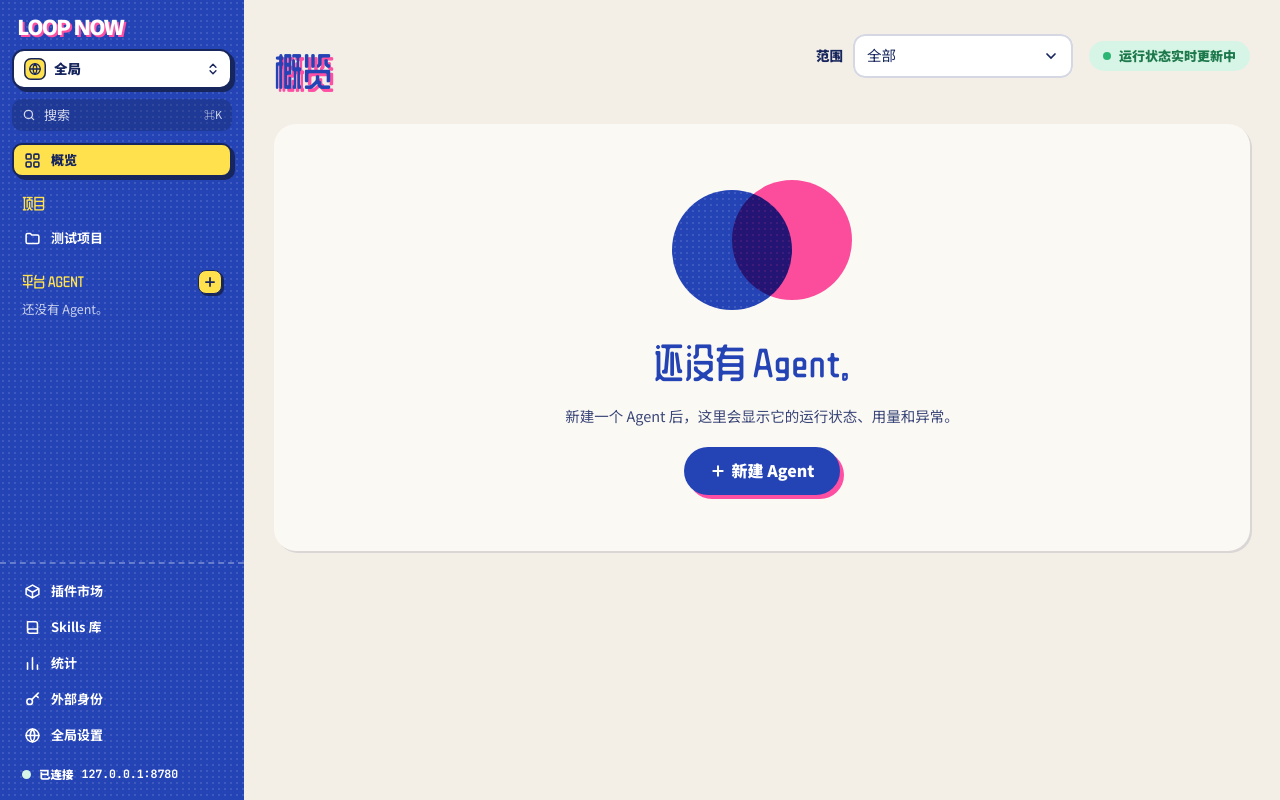
概览页的入口 › 没有 Agent 时显示空状态与新建 Agent 的入口，不显示三块内容
The width and height of the screenshot is (1280, 800).
Check: the heading "概览" is shown, box [274,52,332,90]
Check: the element "还没有 Agent。" shows "新建一个 Agent 后，这里会显示它的运行状态、用量和异常。", box [565,407,959,425]
Click the button "新建 Agent".
click(762, 471)  # box [684,447,840,495]
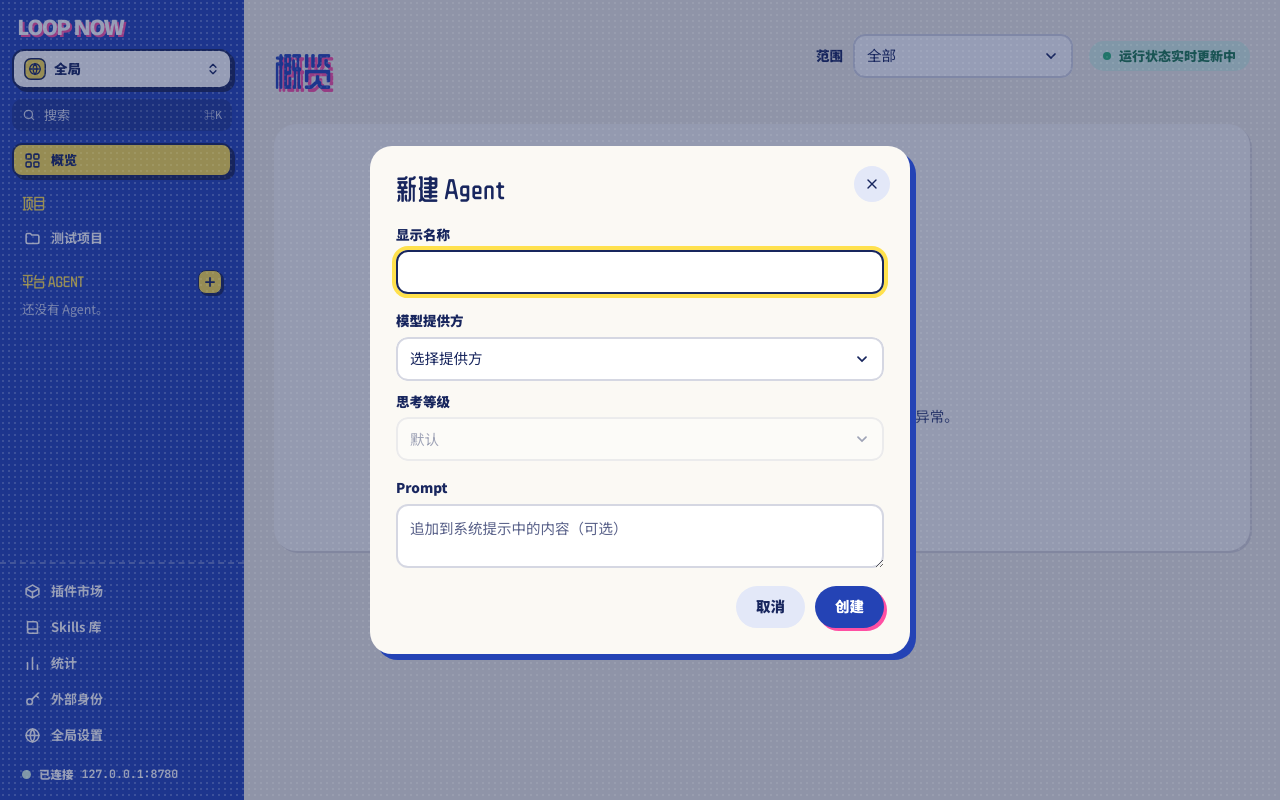
Check: the dialog "新建 Agent" is shown, box [370,146,910,654]
